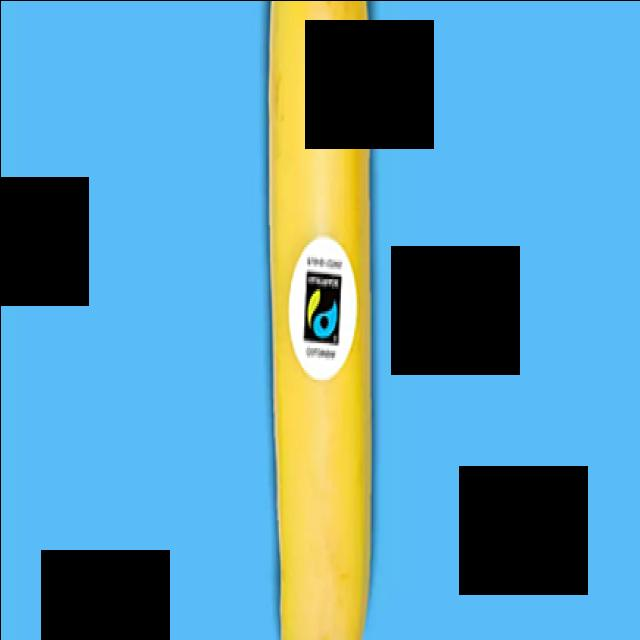banana: (269, 0, 369, 640)
